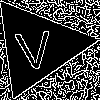V: (13, 21, 54, 71)
